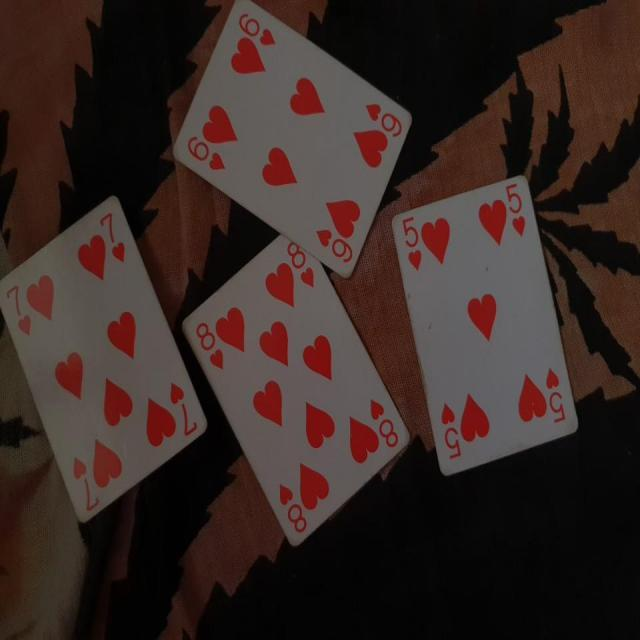5 of hearts: (388, 170, 588, 478)
6 of hearts: (165, 1, 441, 281)
7 of hearts: (0, 189, 212, 538)
8 of hearts: (174, 225, 414, 560)
